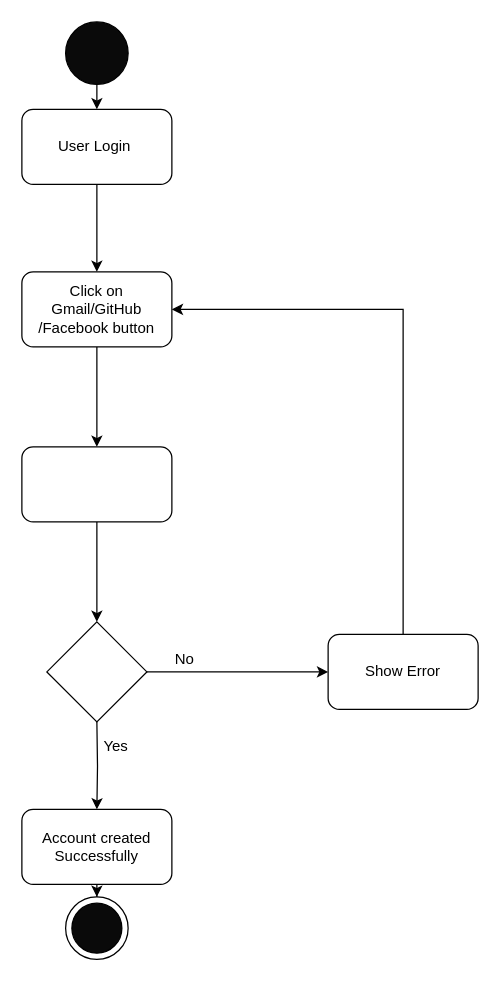
Some shapes in this 500 by 981 pixel diagram are drawn without their labels. The shapes that lost their labels are listed below. From the top down, each one's box as (x1, y1, x2, y2) in pixels, then its label:
(21, 446, 172, 522): Send a email to current account for verification
(46, 621, 147, 722): Verification
